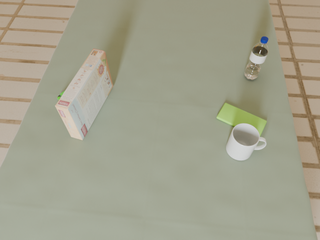bottle: (244, 37, 268, 80)
box: (55, 49, 113, 140)
cup: (226, 123, 266, 160)
phone: (217, 103, 267, 135)
